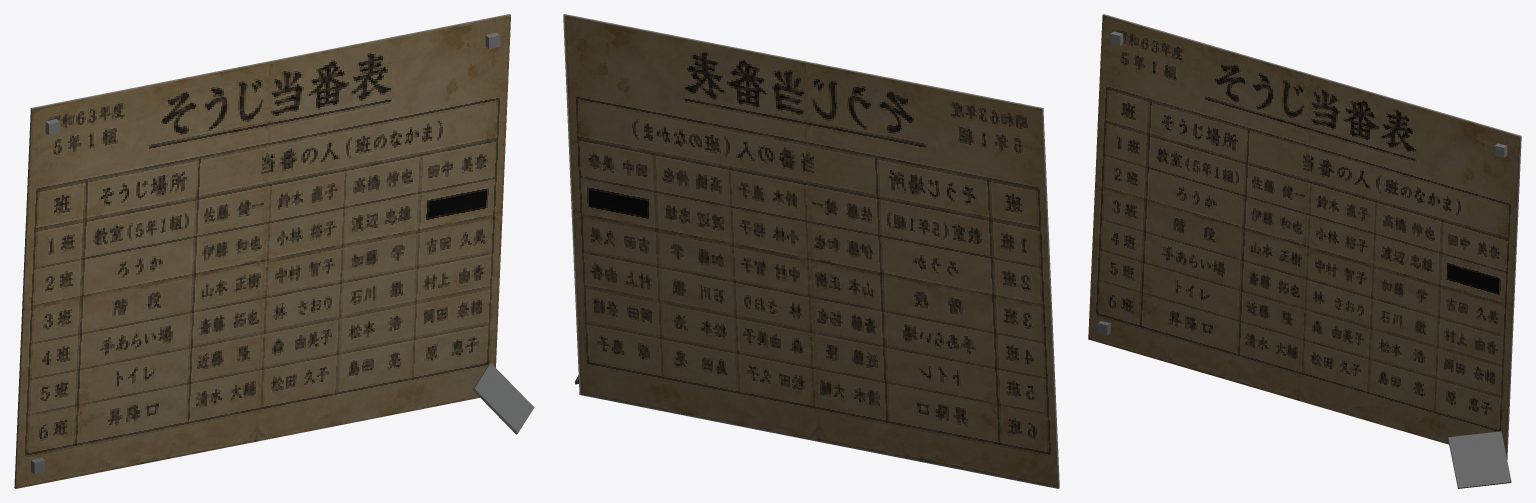
Rendered from prop_poster-touban-1.glb.
3 renders of one model, left to right at view 1: azimuth 30°, elevation 25°; view 2: azimuth 150°, elevation 25°; view 3: azimuth 330°, elevation 25°, orthographic. The views are drawn at different scales.
Parts seen in each view (by area): view 1: prop_poster-touban-1; view 2: prop_poster-touban-1; view 3: prop_poster-touban-1.
Part boxes in pixels (x1=…): prop_poster-touban-1: x1=14, y1=14, x2=534, y2=488; prop_poster-touban-1: x1=563, y1=14, x2=1059, y2=488; prop_poster-touban-1: x1=1088, y1=14, x2=1521, y2=488.
Size of the model in its own units: 0.6432 by 0.4976 by 0.0897.
Materials: 2 (2 with a texture image).
